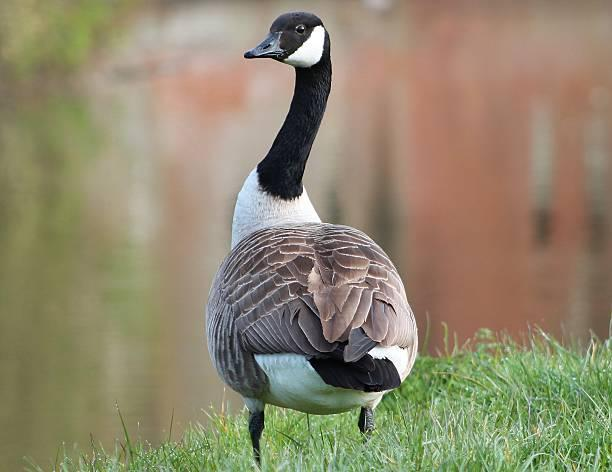Canadian-Goose: (203, 10, 417, 459)
